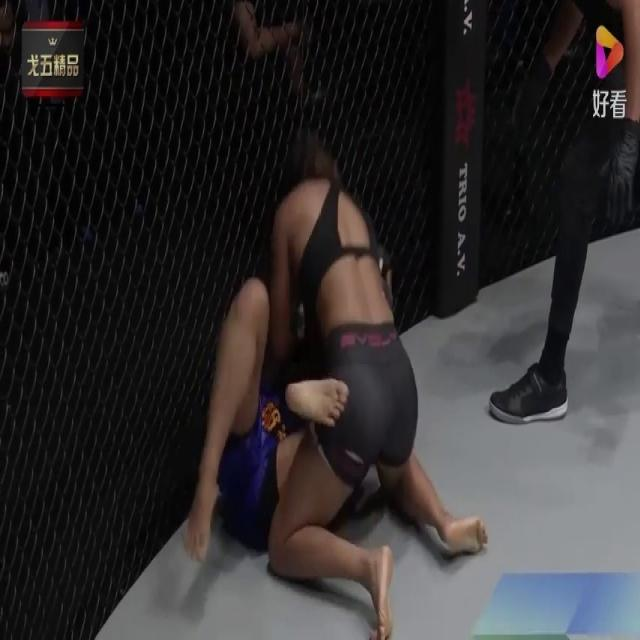fight: (178, 122, 489, 640)
